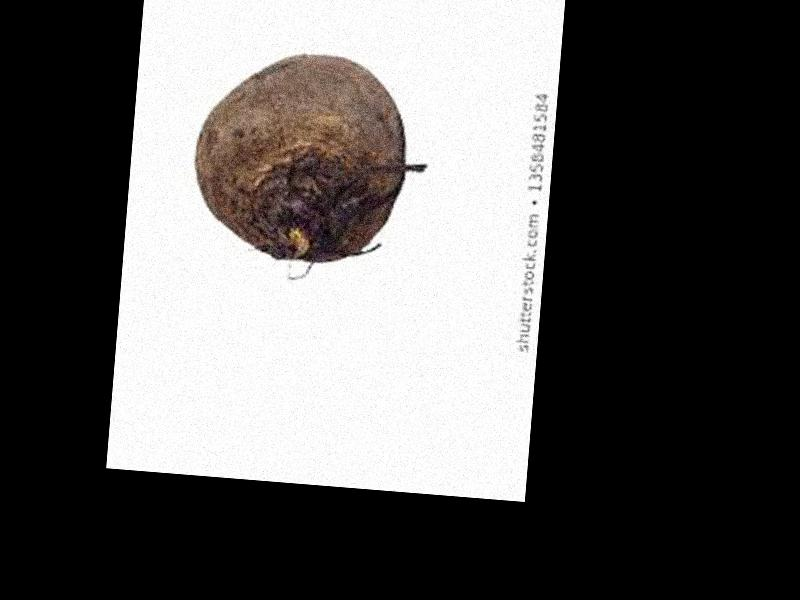Beet: (188, 43, 412, 266)
